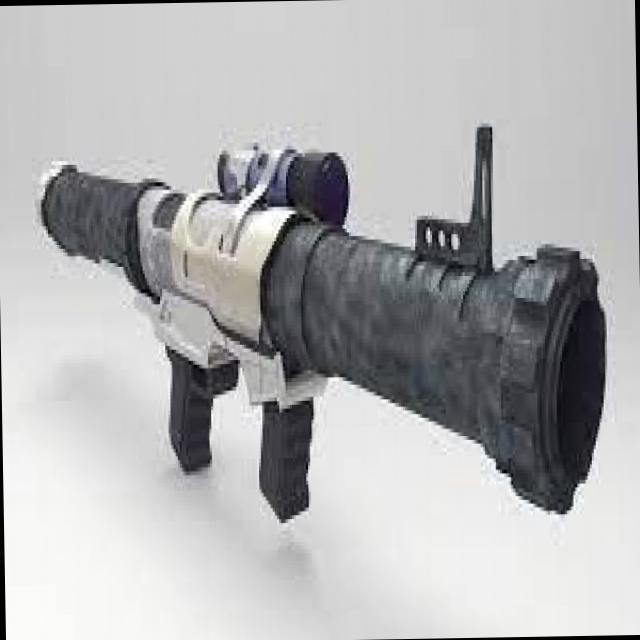rocket: (38, 130, 612, 518)
